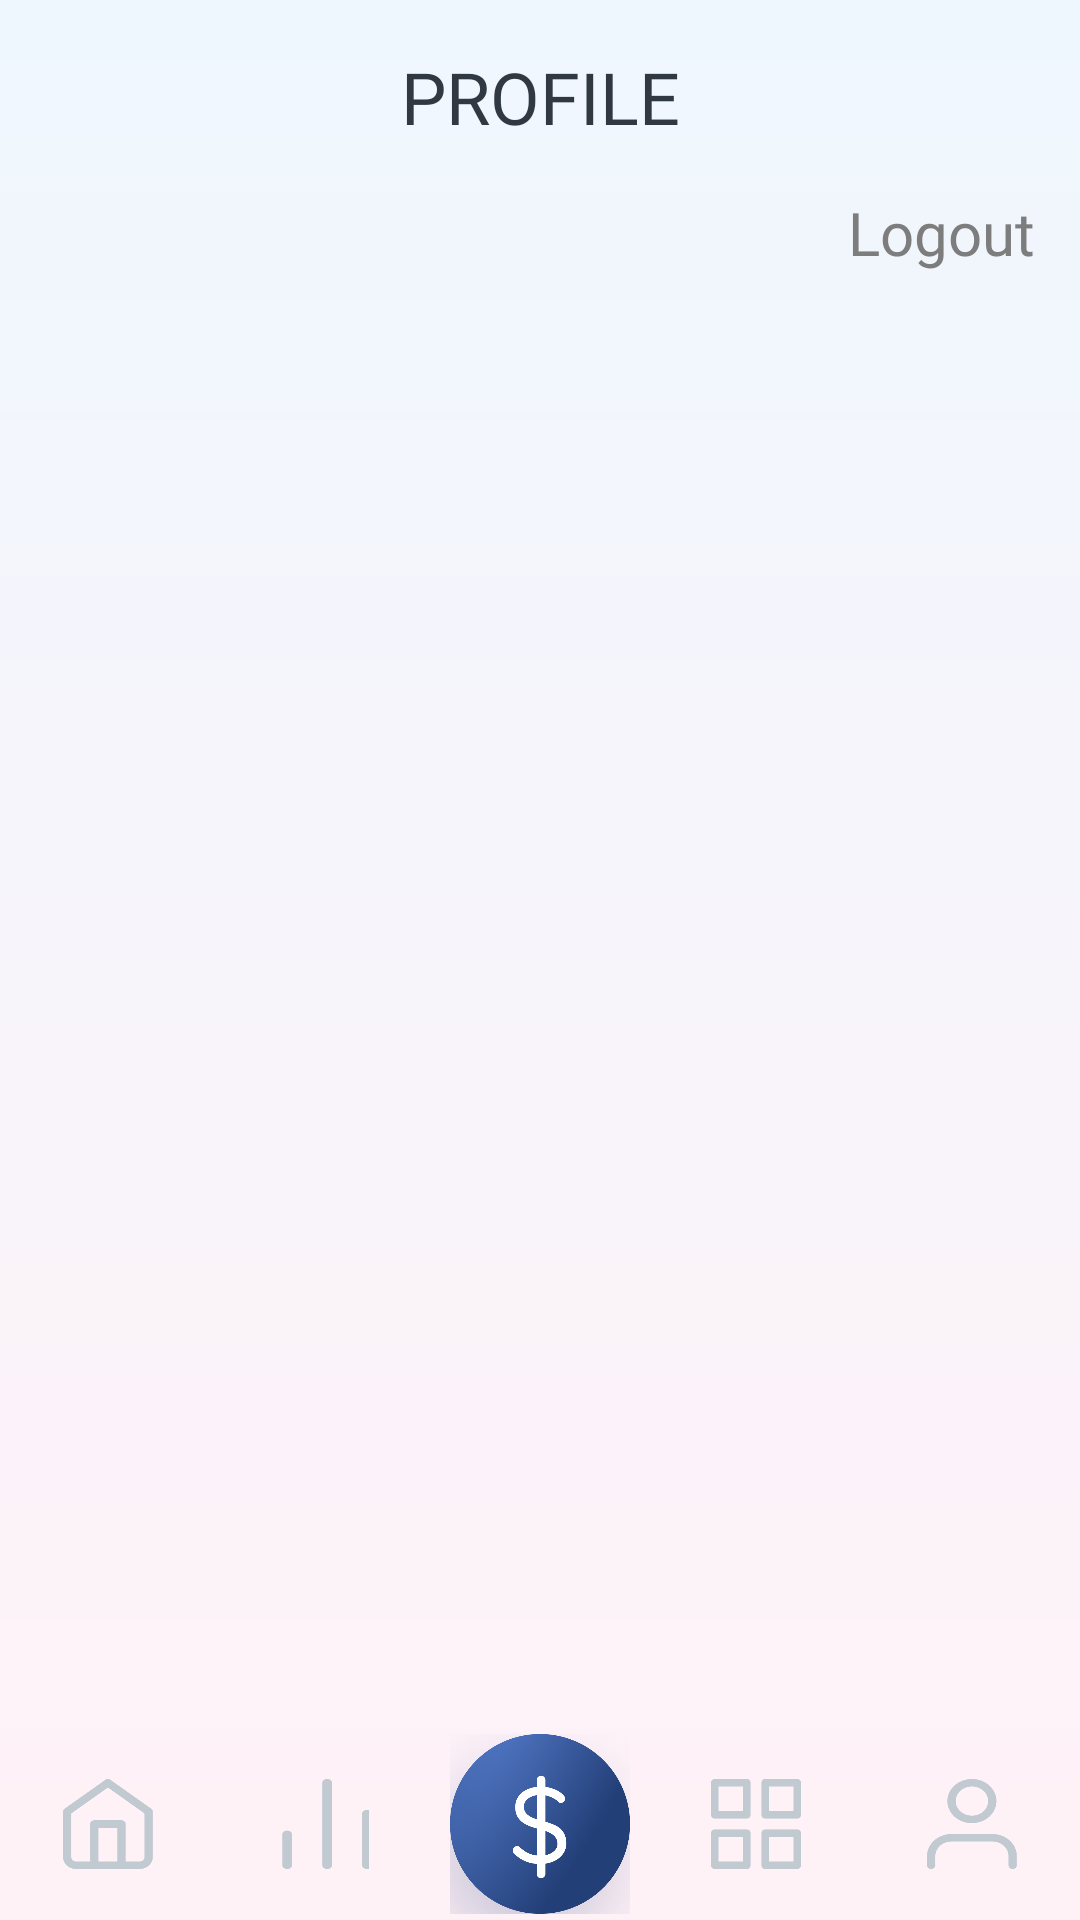

Icons on this 1080 × 1920 Android screen, each with the point to tap as [x,y]:
Go to chart quickly: [325,1824]
Go to home quickly: [108,1824]
Go to option quickly: [756,1824]
Go to personal quickly: [972,1824]
Income/Expense Quickly: [540,1824]
